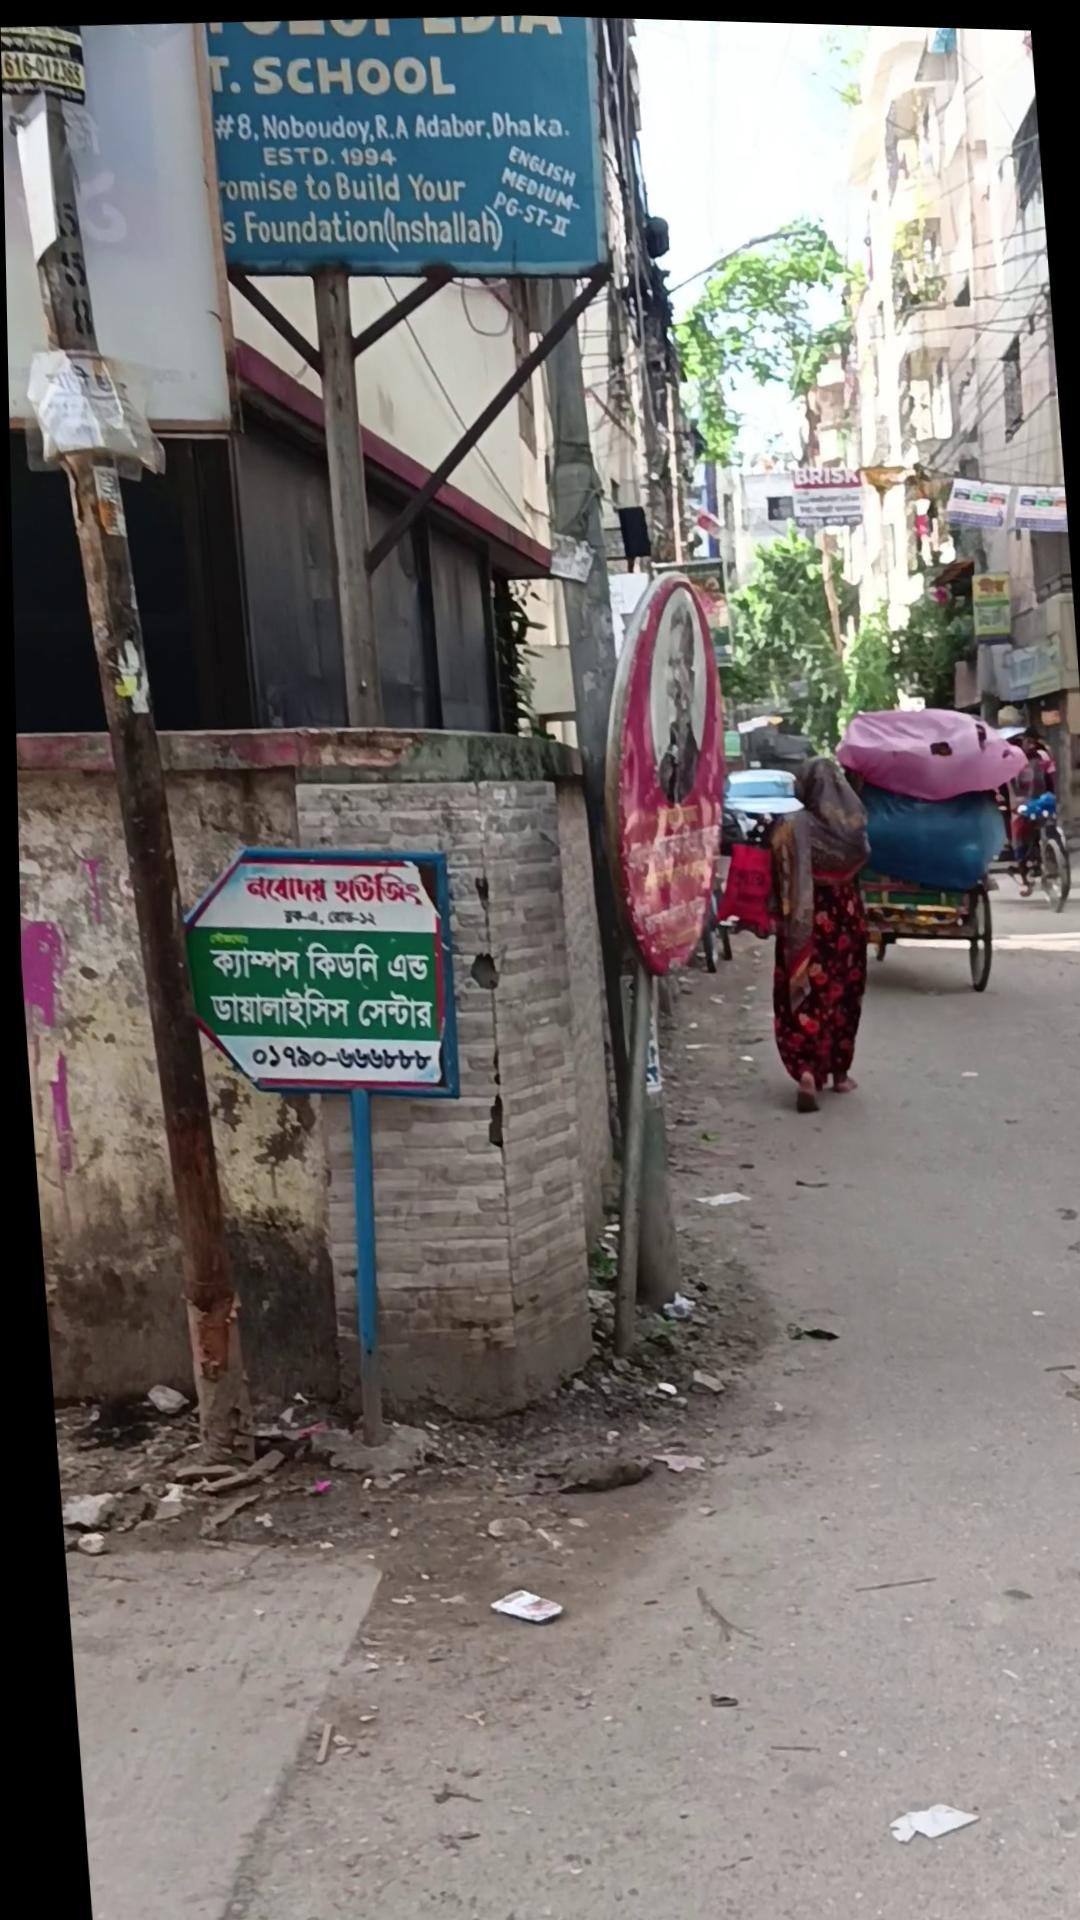Light-pole: (990, 779, 1069, 909)
Muddy road: (746, 745, 886, 1112), (640, 591, 703, 803), (993, 716, 1062, 890)
Pothole: (837, 688, 1007, 993)
Stuck-water: (169, 831, 459, 1110)
Tree: (12, 708, 580, 1435)
